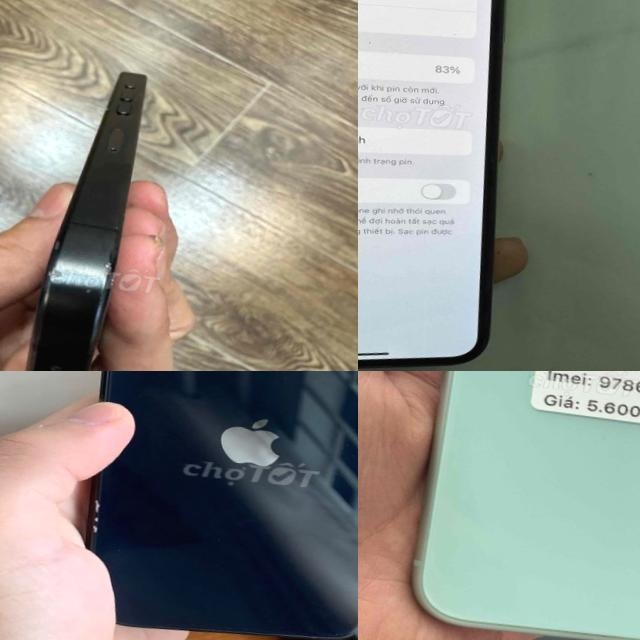gen_11: (375, 371, 640, 640)
gen_12_13: (52, 371, 358, 640)
gen_15: (8, 55, 152, 371)
gen_x_xs: (358, 0, 536, 371)
